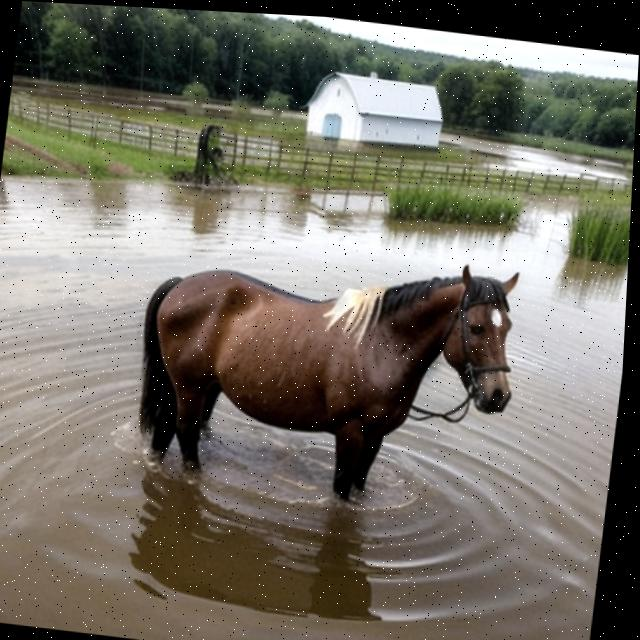horse: (105, 215, 541, 539)
